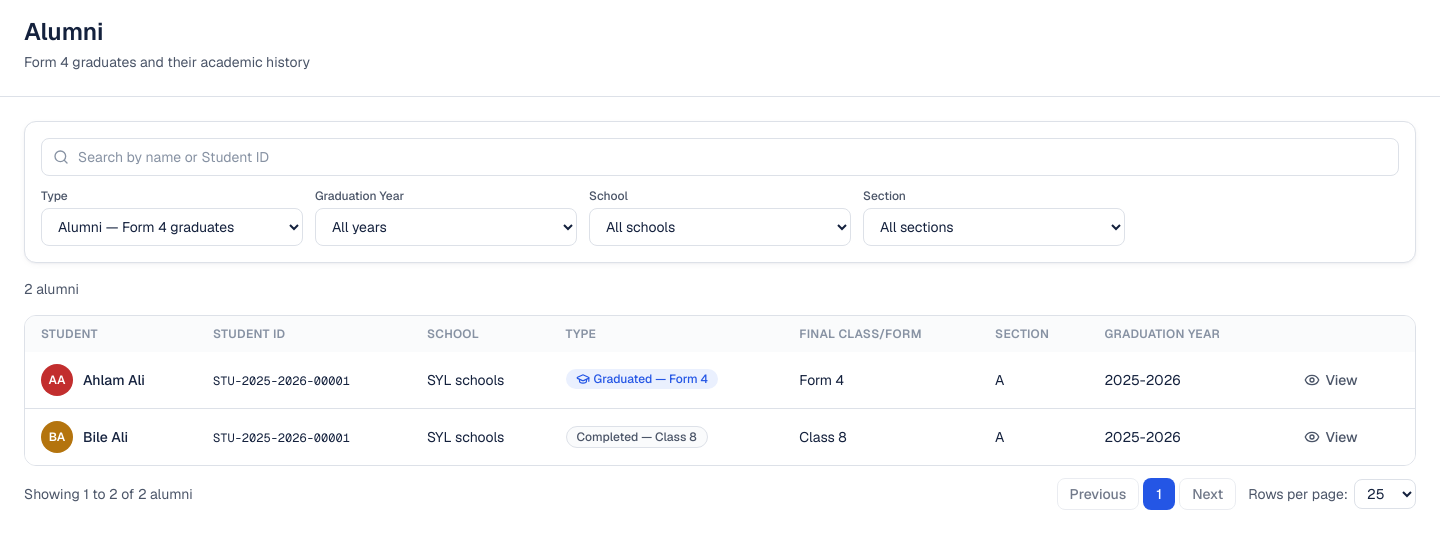
Test: Alumni Directory › keeps Class 8 completers separate: their own view, and a distinct type label when shown together
Expected: the text "2 alumni" is shown, [24, 279, 79, 299]
Step 1. Select "Primary completers — Class 8" in the dropdown labelled "Type" → (172, 227), box [41, 208, 303, 246]
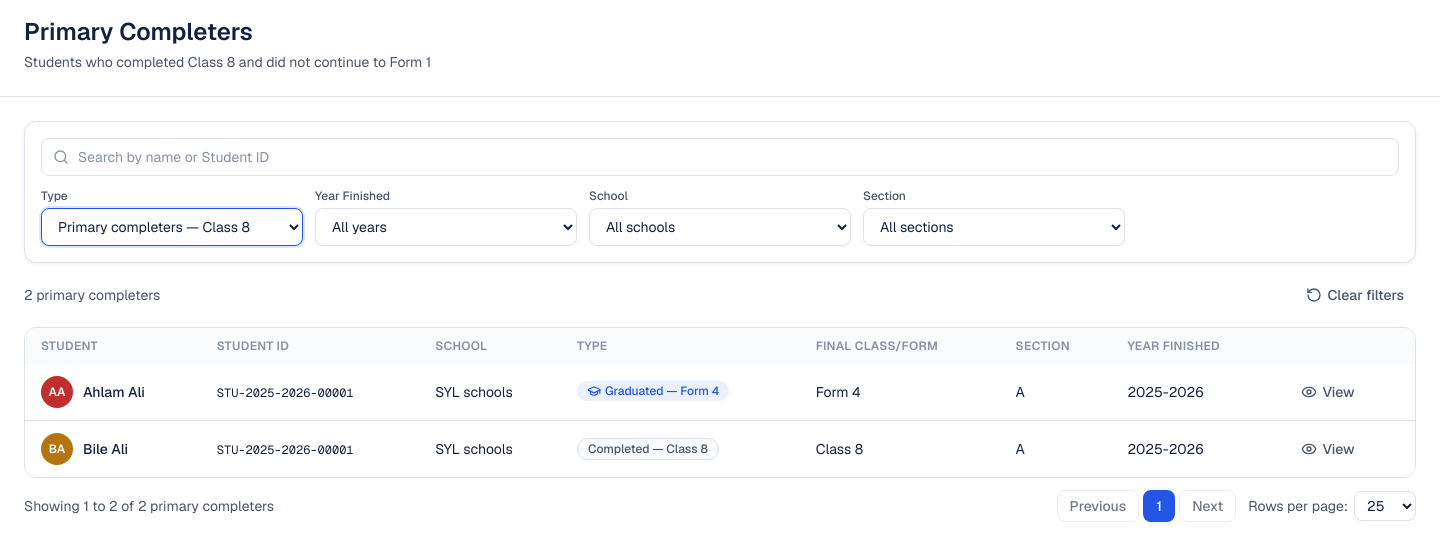
Expected: the heading "Primary Completers" is shown, [24, 16, 253, 47]
Step 2. Select "All former students" in the dropdown labelled "Type" → (172, 227), box [41, 208, 303, 246]
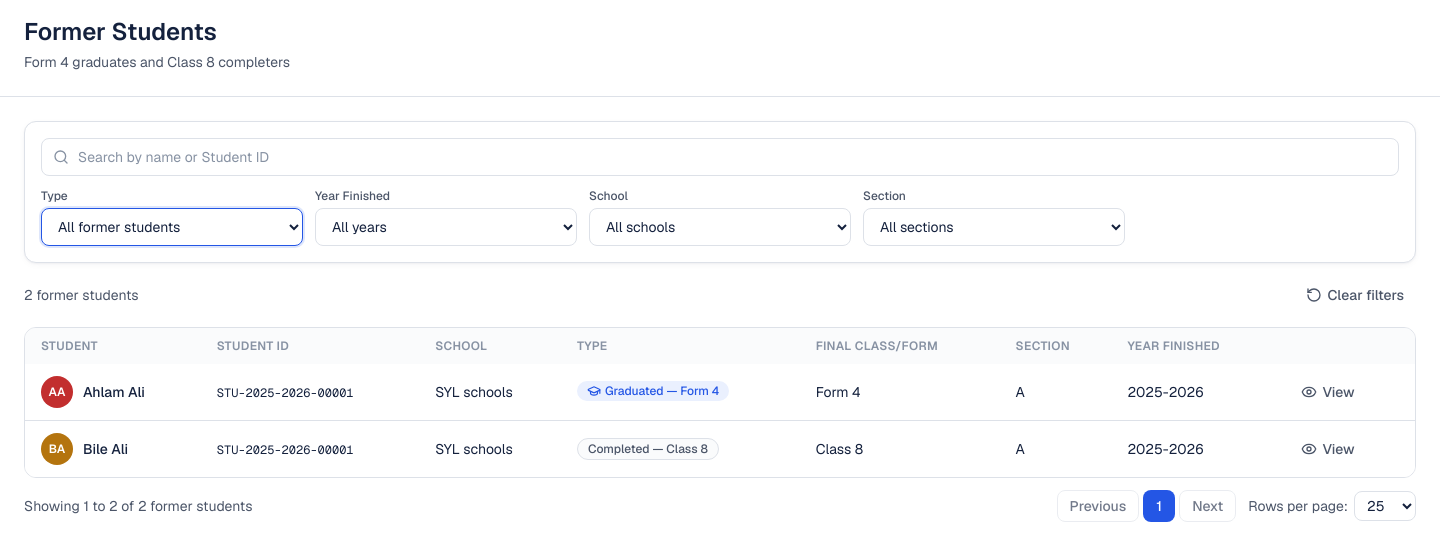
Expected: the text "Graduated — Form 4" is shown, [577, 381, 729, 401]
Expected: the heading "Former Students" is shown, [24, 16, 217, 47]
